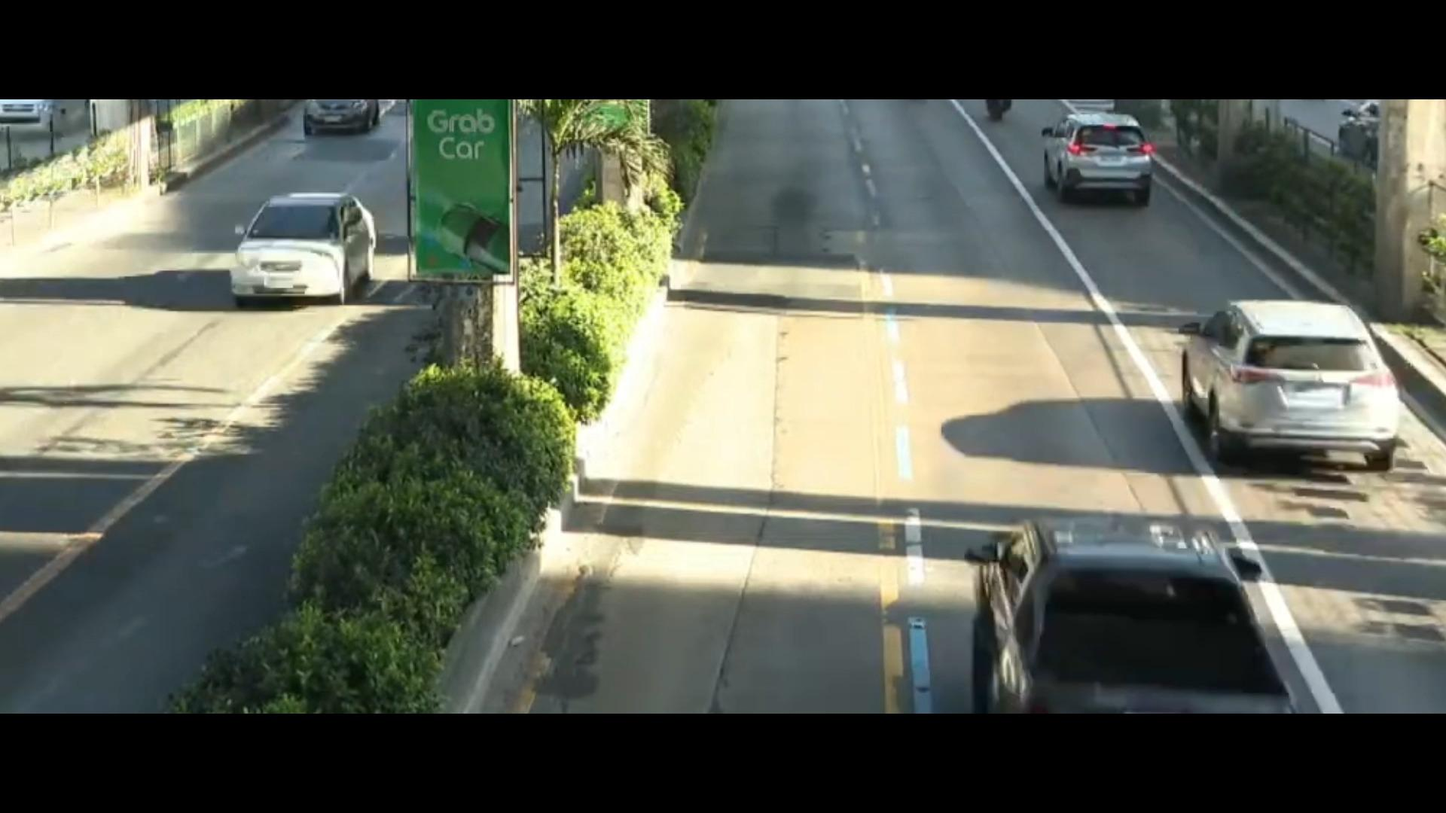Pickup: (932, 471, 1313, 711)
SUV: (1185, 279, 1427, 485), (1030, 93, 1164, 213)
Sedan: (216, 181, 403, 309)
